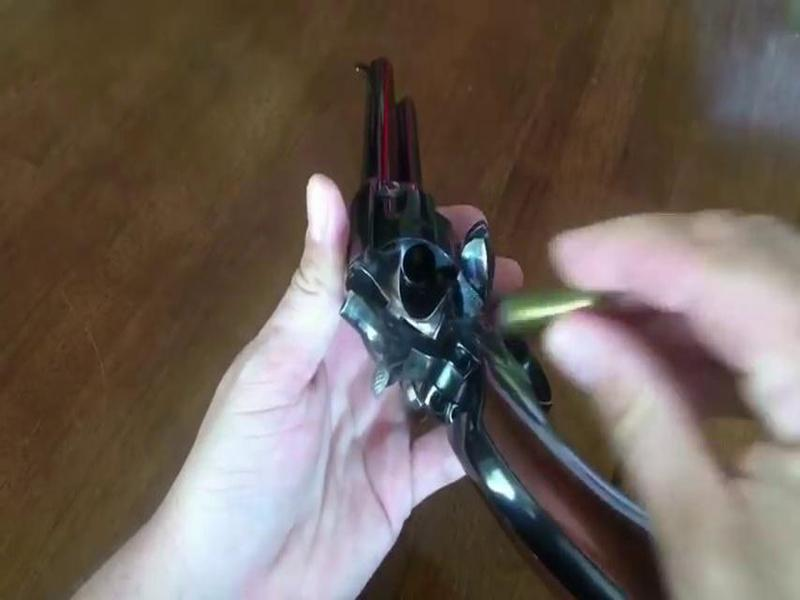Revolver: (327, 32, 628, 562)
